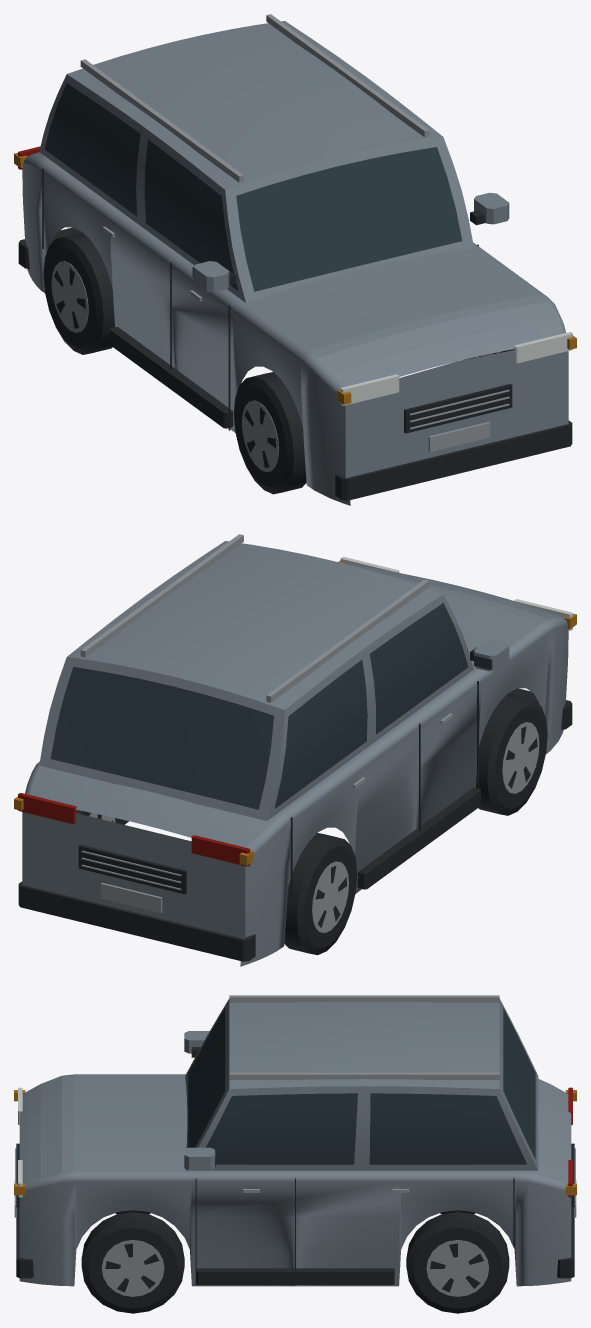
The model's file is offroad.glb.
3 views of the same model, one above another, from view 1: azimuth 30°, elevation 25°; view 2: azimuth 150°, elevation 25°; view 3: azimuth 270°, elevation 25° (orthographic). The views are drawn at different scales.
Visible parts, largest first — view 1: paint-body, glass-body, rubber-body, rubber-wheel-front-left (×2), alloy-body, alloy-wheel-front-left (×2), headlamp-body; view 2: paint-body, glass-body, rubber-body, rubber-wheel-front-left (×2), alloy-body, alloy-wheel-front-left (×2), taillamp-body, headlamp-body; view 3: paint-body, glass-body, rubber-wheel-front-left (×2), rubber-body, alloy-wheel-front-left (×2), alloy-body.
Part boxes in pixels (x1,y1,x2,y2): paint-body: (22, 21, 568, 505); glass-body: (44, 83, 474, 291); rubber-body: (18, 168, 572, 500); rubber-wheel-front-left (×2): (43, 232, 306, 494); alloy-body: (80, 14, 509, 451); alloy-wheel-front-left (×2): (51, 261, 278, 472); headlamp-body: (340, 332, 572, 405); paint-body: (22, 541, 568, 966); glass-body: (50, 603, 492, 809); rubber-body: (18, 647, 572, 961); rubber-wheel-front-left (×2): (284, 693, 547, 955); alloy-body: (80, 534, 452, 912); alloy-wheel-front-left (×2): (312, 722, 539, 932); taillamp-body: (18, 793, 250, 866); headlamp-body: (340, 556, 572, 630); paint-body: (19, 999, 571, 1286); glass-body: (188, 1007, 535, 1166); rubber-wheel-front-left (×2): (81, 1212, 509, 1313); rubber-body: (16, 1047, 574, 1285); alloy-wheel-front-left (×2): (101, 1240, 489, 1296); alloy-body: (14, 995, 576, 1217).
Bounding box in the file's own units: 2.26 × 1.89 × 4.26.
